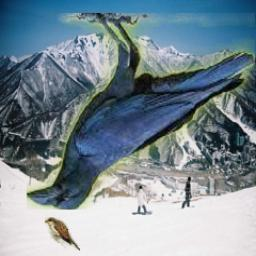Crow: (27, 13, 255, 210)
Cuckoo: (46, 218, 81, 252)
